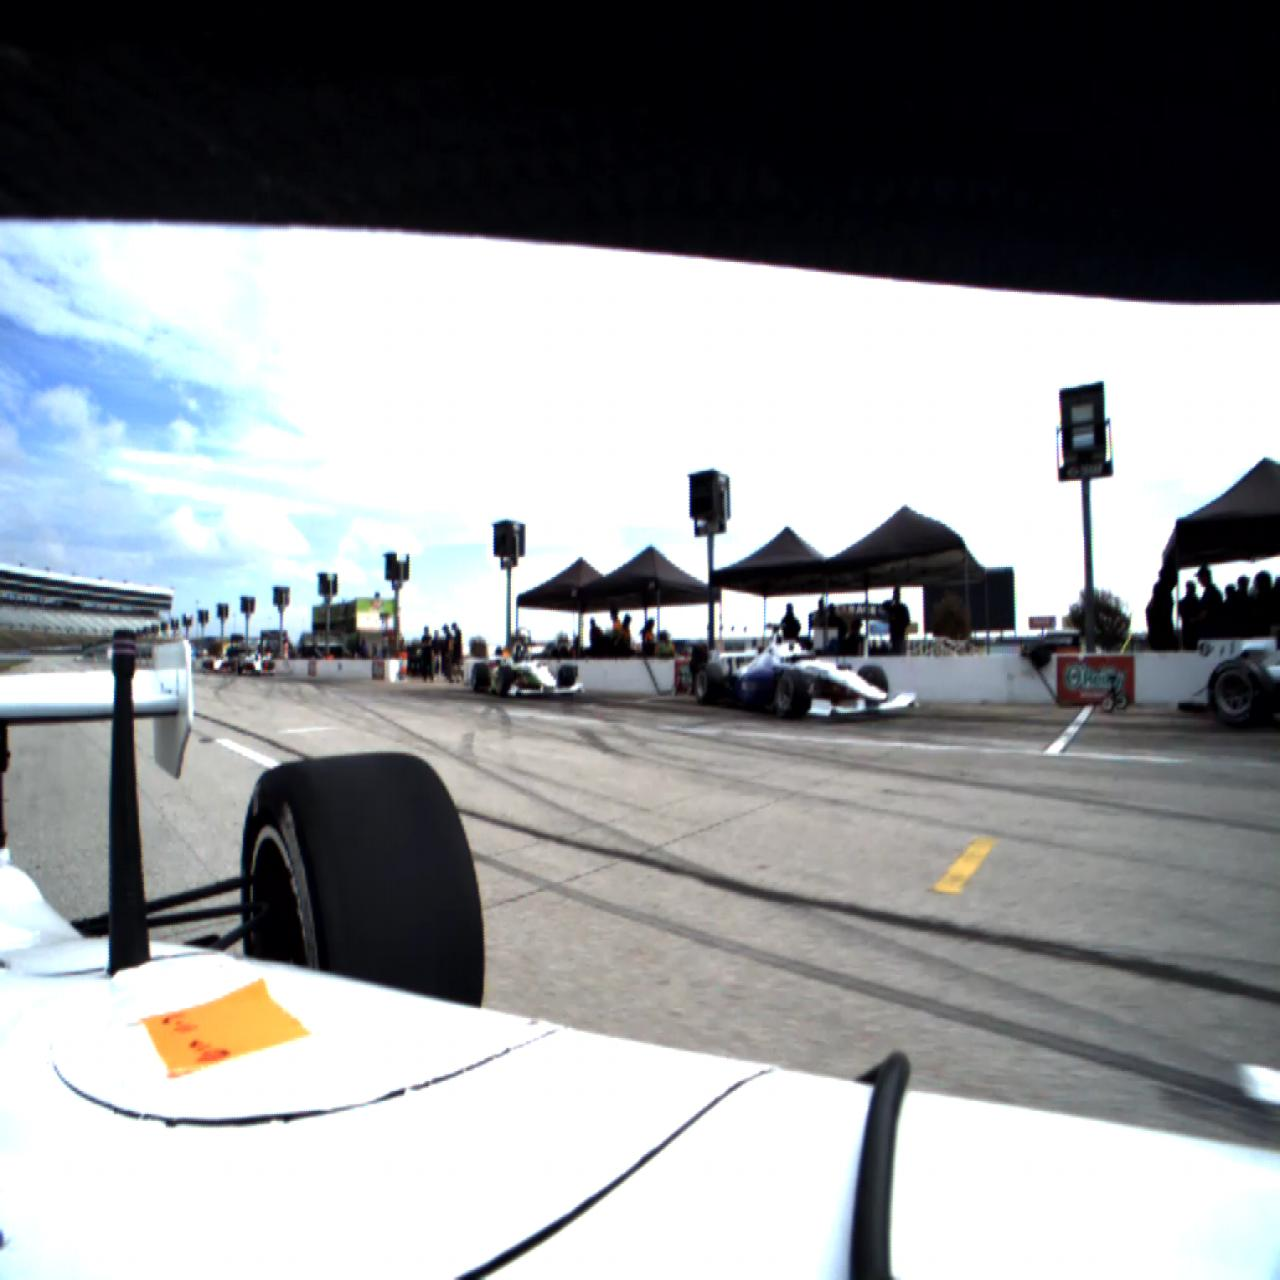AV: (694, 622, 919, 722), (471, 634, 584, 697)
Wheel: (240, 749, 485, 1009), (1207, 659, 1273, 733), (774, 668, 808, 721), (857, 665, 890, 710), (695, 663, 720, 706), (558, 666, 576, 696), (471, 663, 489, 693), (497, 666, 510, 696)
